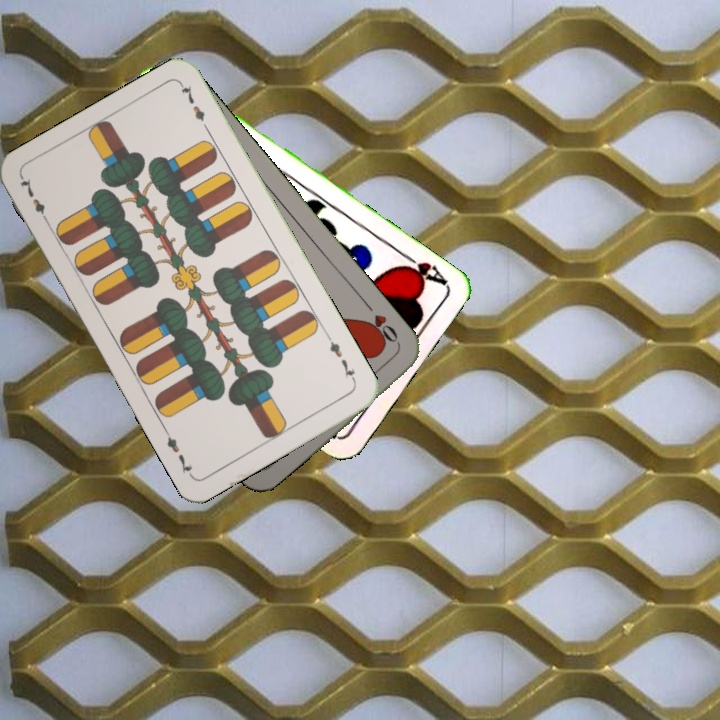E7: (15, 174, 52, 227), (323, 331, 359, 385)
HA: (394, 247, 449, 288)
HO: (360, 299, 403, 349)
